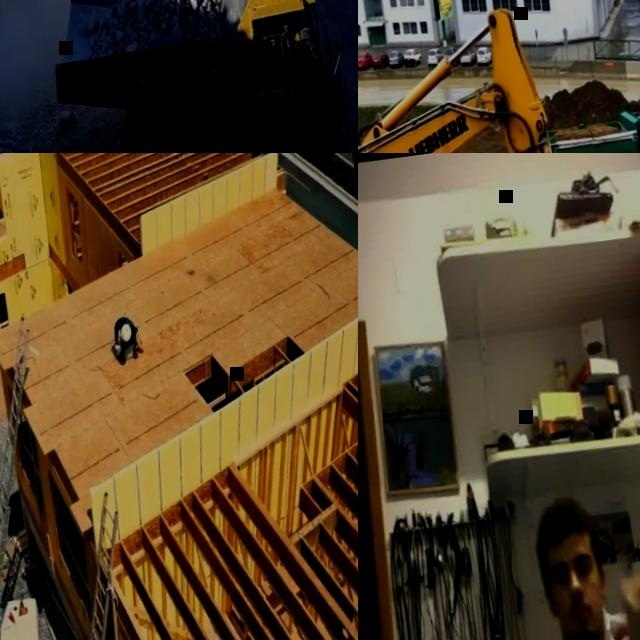Hardhat: (121, 322, 135, 343)
NO-Hardhat: (533, 496, 598, 552)
NO-Mask: (558, 596, 607, 640)
NO-Safety Vest: (122, 315, 138, 340)
Person: (493, 470, 640, 640), (112, 315, 143, 363)
Safety Cone: (604, 61, 614, 67)
machinery: (29, 0, 358, 153), (358, 0, 616, 153), (543, 102, 640, 153)
vehicle: (442, 45, 461, 68), (403, 47, 423, 68), (475, 45, 494, 66), (426, 46, 445, 67), (387, 48, 406, 69), (371, 50, 390, 70), (459, 47, 477, 67), (358, 50, 374, 70)
